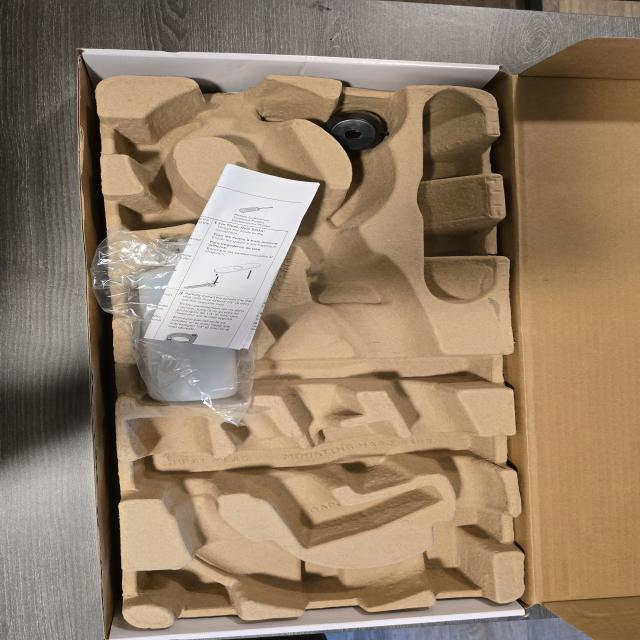1m: (128, 77, 509, 605)
2m: (225, 417, 443, 547)
3o: (132, 235, 238, 400)
4m: (418, 89, 495, 306)
5: (323, 107, 393, 151)
6m: (110, 104, 204, 165)
7m: (125, 175, 237, 231)
8: (141, 162, 323, 350)
